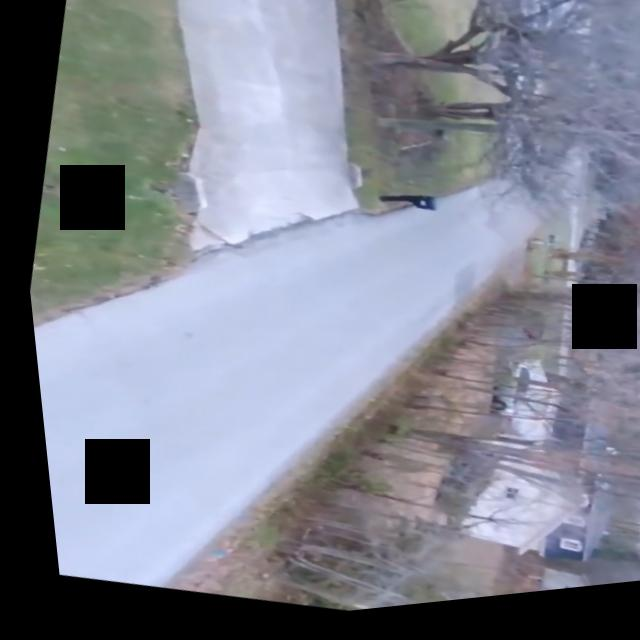Pole: (367, 82, 640, 207)
Tree: (322, 0, 640, 269), (354, 392, 640, 535), (478, 258, 640, 374)
Vehicle: (467, 360, 535, 436)
